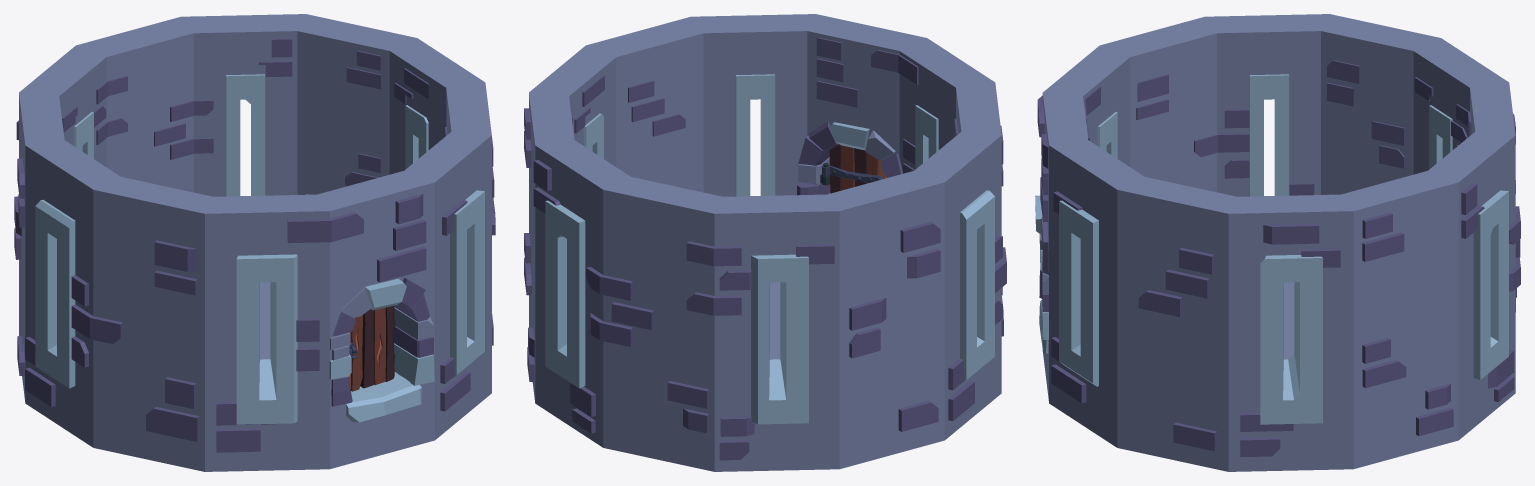
The model's file is Wall_Tower_03.fbx.
The picture shows the model from 3 angles, left to right: view 1: azimuth 30°, elevation 25°; view 2: azimuth 150°, elevation 25°; view 3: azimuth 270°, elevation 25°; orthographic projection.
Visible parts, largest first — view 1: Wall_Tower_02; view 2: Wall_Tower_02; view 3: Wall_Tower_02.
Part boxes in pixels (x1,y1,x2,y2): Wall_Tower_02: (14,14,495,471); Wall_Tower_02: (524,14,1006,471); Wall_Tower_02: (1035,14,1520,471).
Size of the model in its own units: 1366 by 800 by 1364.
